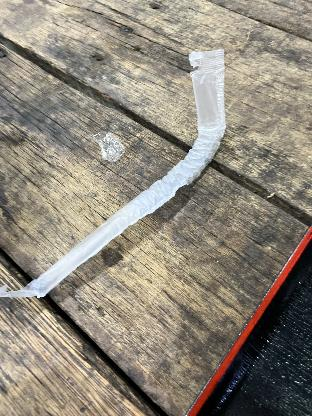Others: (4, 46, 228, 300)
